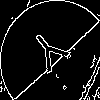Y: (25, 25, 77, 82)
